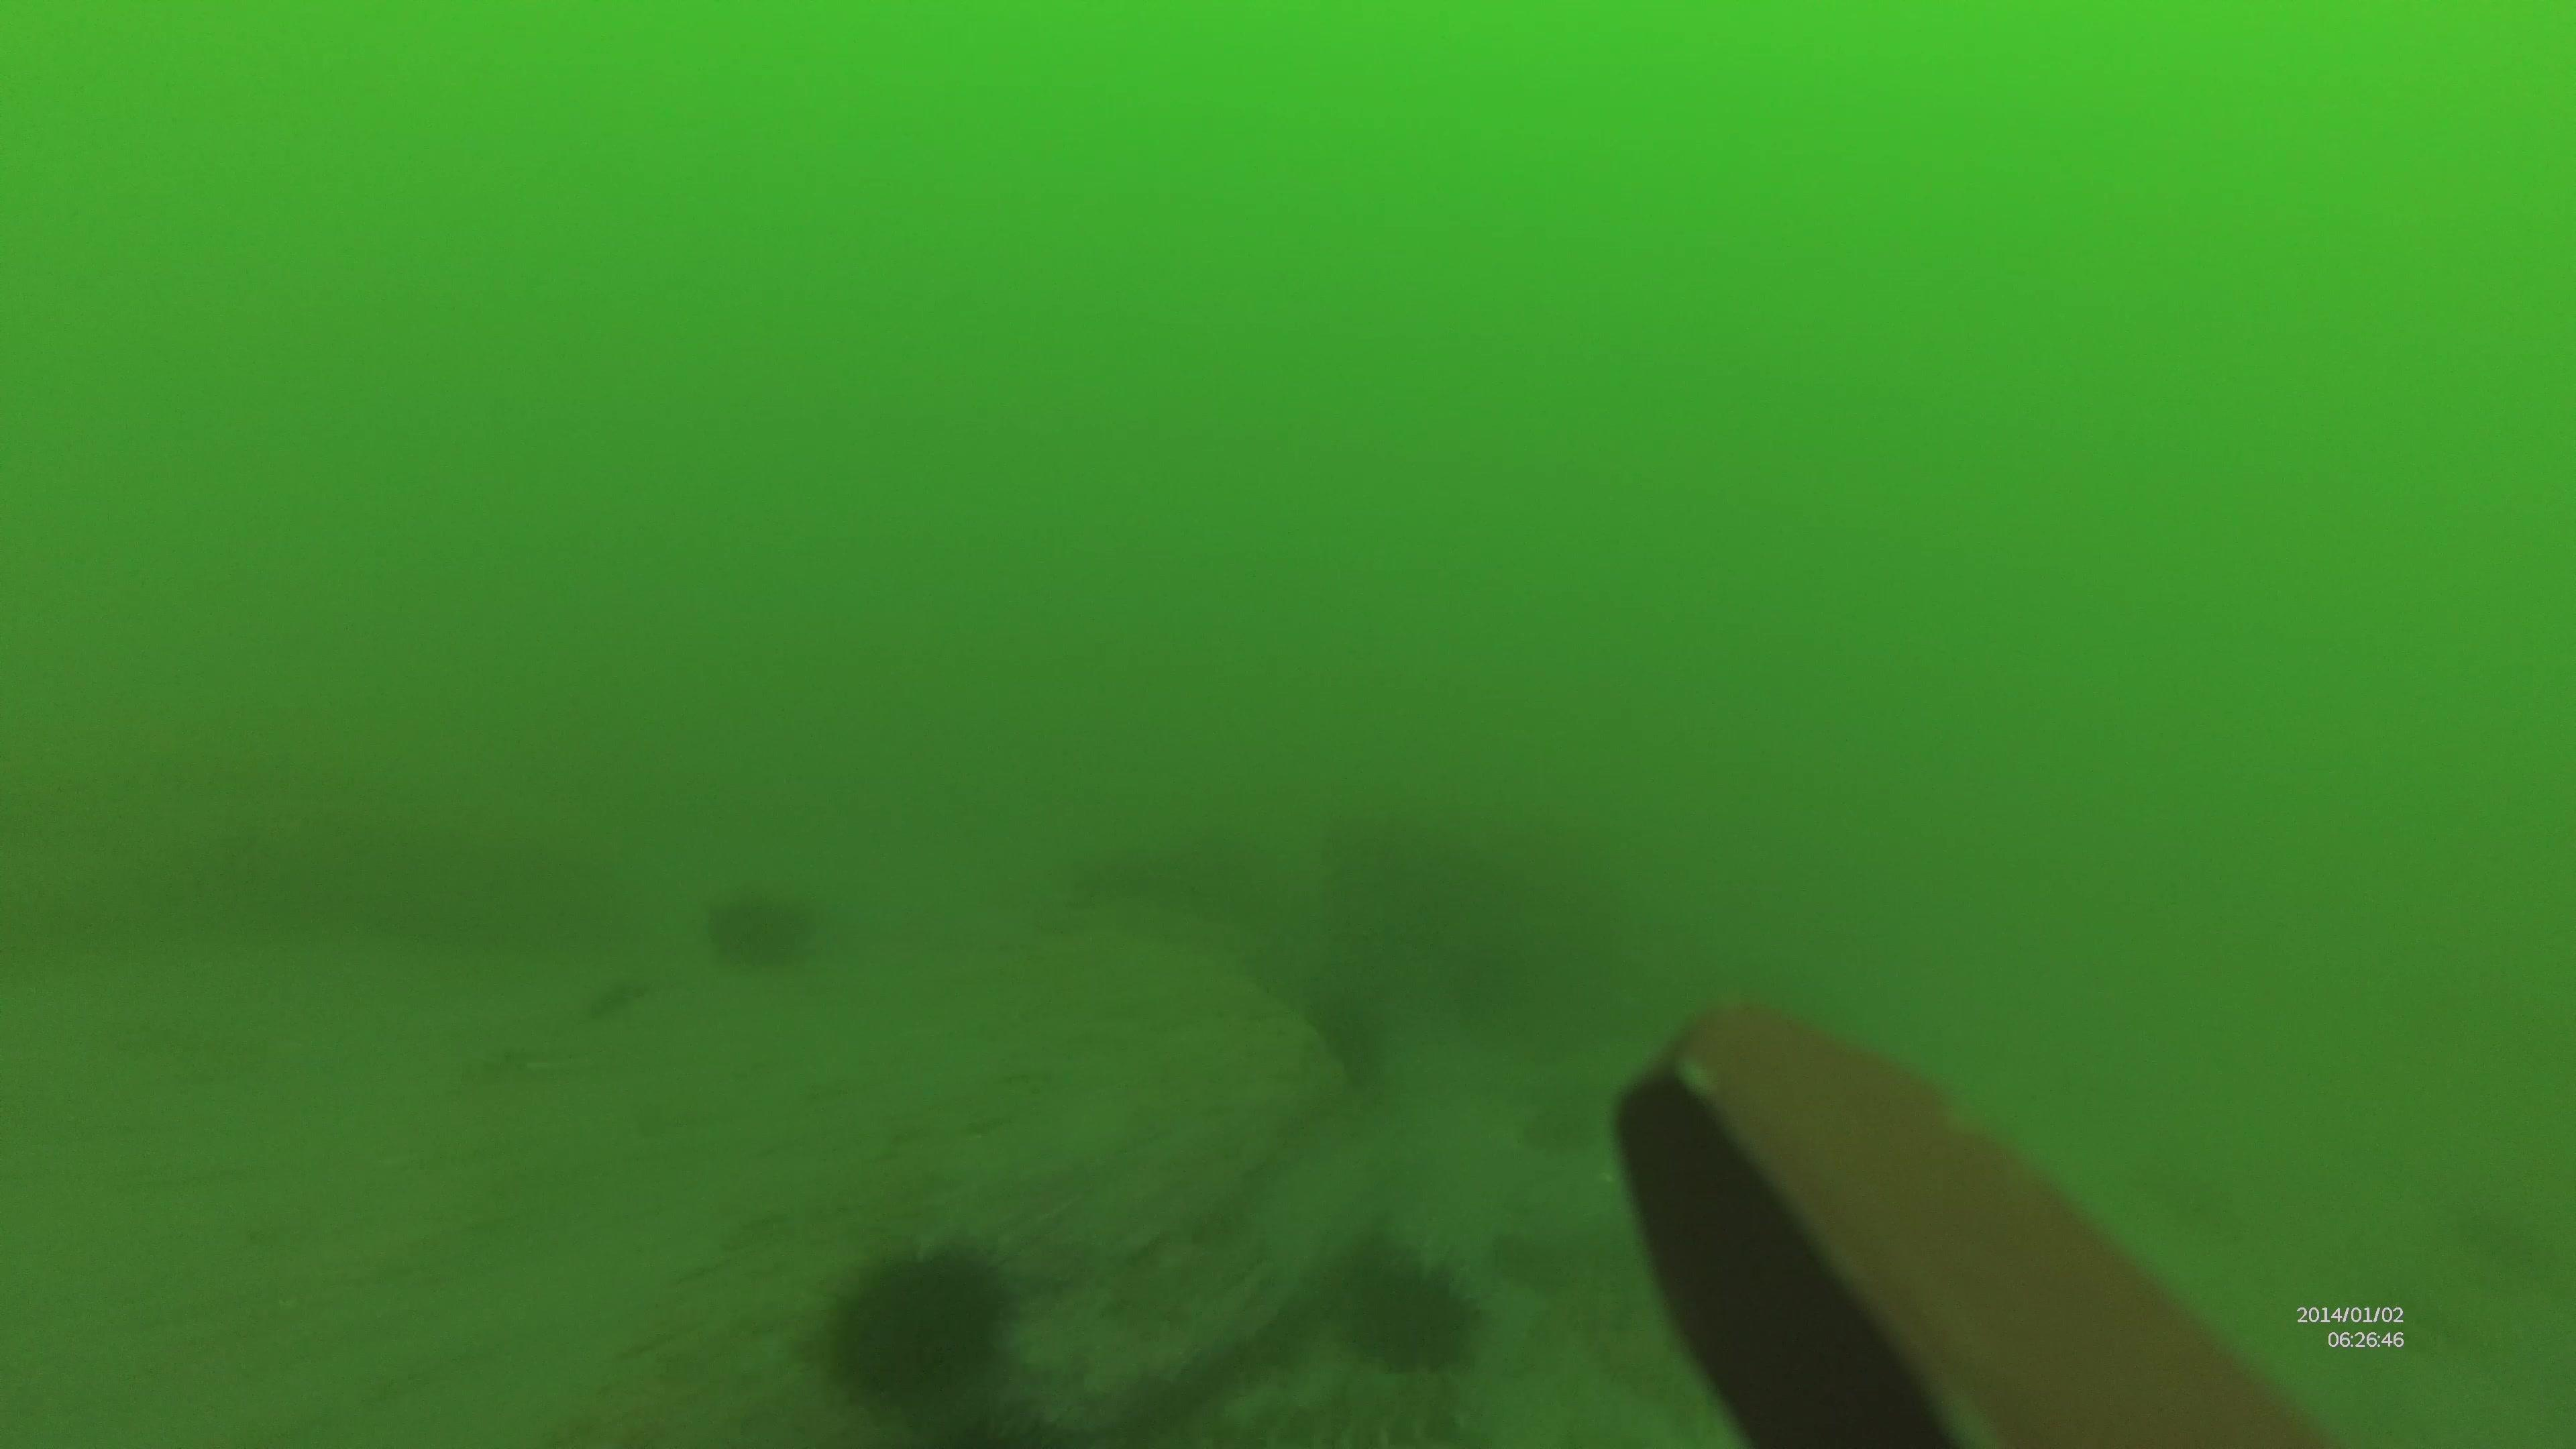echinus: (821, 1237, 1024, 1401), (1313, 1224, 1491, 1369)
